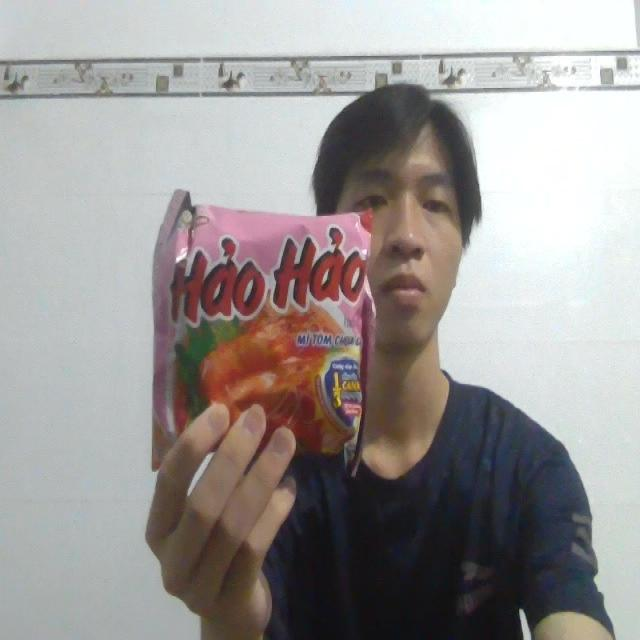mi hao hao: (138, 186, 386, 504)
